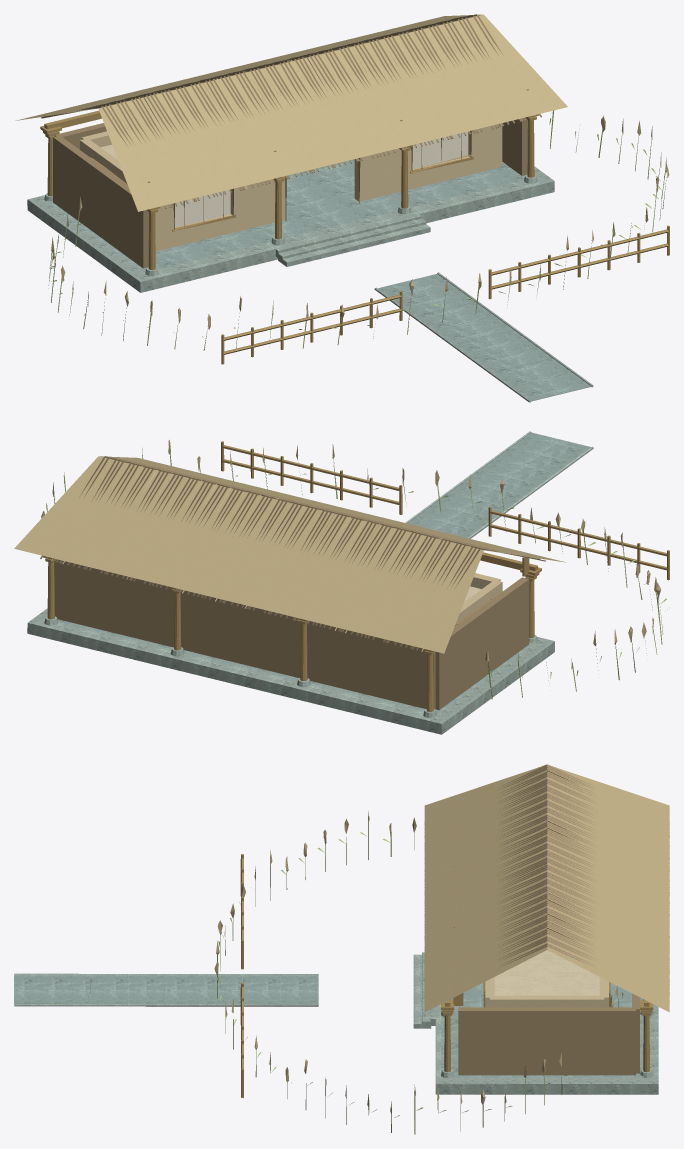
Rendered from reference-public_models_places-low_luxuean.glb.
The picture shows the model from 3 angles, top to bottom: view 1: azimuth 30°, elevation 25°; view 2: azimuth 150°, elevation 25°; view 3: azimuth 270°, elevation 25°; orthographic projection.
Parts seen in each view (by area): view 1: r15_luxuean_Sunwen_r18_rustic_thatch.001, Mobile_luxuean_paving, r15_luxuean_clay, r15_luxuean_Sunwen_r18_rustic_stone.001, r15_luxuean_Sunwen_r18_rustic_qing_clay.001, r15_luxuean_Sunwen_r18_rustic_rusticwood.001, r15_luxuean_Sunwen_r18_rustic_screen.001, Mobile_luxuean_plants; view 2: r15_luxuean_Sunwen_r18_rustic_thatch.001, r15_luxuean_clay, r15_luxuean_Sunwen_r18_rustic_stone.001, Mobile_luxuean_paving, r15_luxuean_Sunwen_r18_rustic_rusticwood.001, Mobile_luxuean_plants, r15_luxuean_Sunwen_r18_rustic_qing_clay.001; view 3: r15_luxuean_Sunwen_r18_rustic_thatch.001, r15_luxuean_clay, Mobile_luxuean_paving, r15_luxuean_Sunwen_r18_rustic_stone.001, r15_luxuean_Sunwen_r18_rustic_plaster.001, r15_luxuean_Sunwen_r18_rustic_rusticwood.001, r15_luxuean_Sunwen_r18_rustic_qing_clay.001, Mobile_luxuean_plants.
Part boxes in pixels (left/top/right/bottom): r15_luxuean_Sunwen_r18_rustic_thatch.001: left=15, top=14, right=669, bottom=329; Mobile_luxuean_paving: left=46, top=159, right=590, bottom=400; r15_luxuean_clay: left=41, top=14, right=541, bottom=268; r15_luxuean_Sunwen_r18_rustic_stone.001: left=27, top=166, right=593, bottom=402; r15_luxuean_Sunwen_r18_rustic_qing_clay.001: left=80, top=123, right=502, bottom=251; r15_luxuean_Sunwen_r18_rustic_rusticwood.001: left=40, top=89, right=669, bottom=364; r15_luxuean_Sunwen_r18_rustic_screen.001: left=174, top=131, right=468, bottom=227; Mobile_luxuean_plants: left=48, top=110, right=666, bottom=350; r15_luxuean_Sunwen_r18_rustic_thatch.001: left=14, top=440, right=661, bottom=669; r15_luxuean_clay: left=40, top=456, right=540, bottom=709; r15_luxuean_Sunwen_r18_rustic_stone.001: left=27, top=431, right=593, bottom=734; Mobile_luxuean_paving: left=57, top=433, right=590, bottom=714; r15_luxuean_Sunwen_r18_rustic_rusticwood.001: left=43, top=441, right=669, bottom=711; Mobile_luxuean_plants: left=46, top=447, right=667, bottom=699; r15_luxuean_Sunwen_r18_rustic_qing_clay.001: left=455, top=573, right=502, bottom=625; r15_luxuean_Sunwen_r18_rustic_thatch.001: left=214, top=764, right=669, bottom=1114; r15_luxuean_clay: left=424, top=764, right=669, bottom=1075; Mobile_luxuean_paving: left=14, top=975, right=643, bottom=1077; r15_luxuean_Sunwen_r18_rustic_stone.001: left=14, top=952, right=658, bottom=1094; r15_luxuean_Sunwen_r18_rustic_plaster.001: left=494, top=950, right=599, bottom=995; r15_luxuean_Sunwen_r18_rustic_rusticwood.001: left=240, top=804, right=653, bottom=1098; r15_luxuean_Sunwen_r18_rustic_qing_clay.001: left=485, top=977, right=608, bottom=1007; Mobile_luxuean_plants: left=217, top=816, right=623, bottom=1134.
Bounding box in the file's own units: 26.2 × 6.07 × 25.85.
9 materials, 7 textured.
